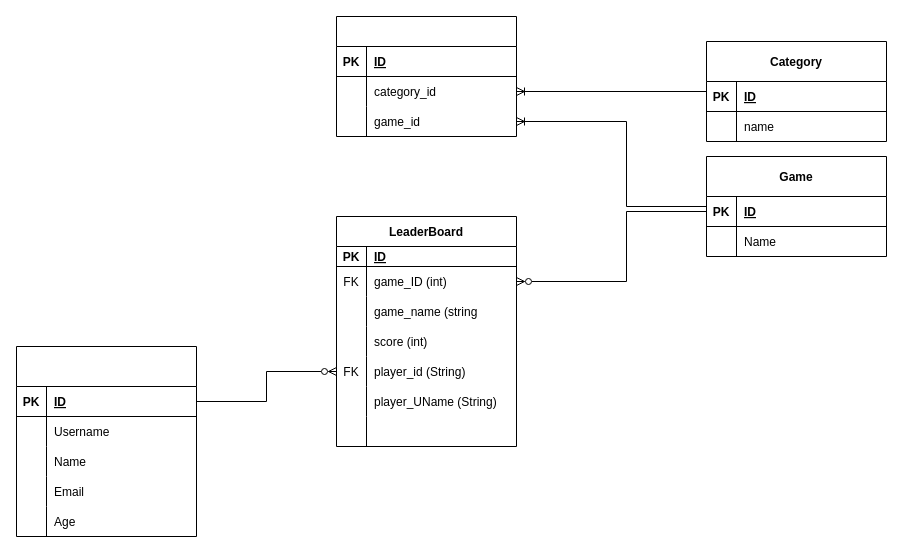
This 903x553 diagram has some shape labels left out. The box of each missing label's shape, as (x1, y1, x2, y2) in pixels:
Game_Category: (336, 16, 516, 136)
Player: (16, 346, 196, 536)
